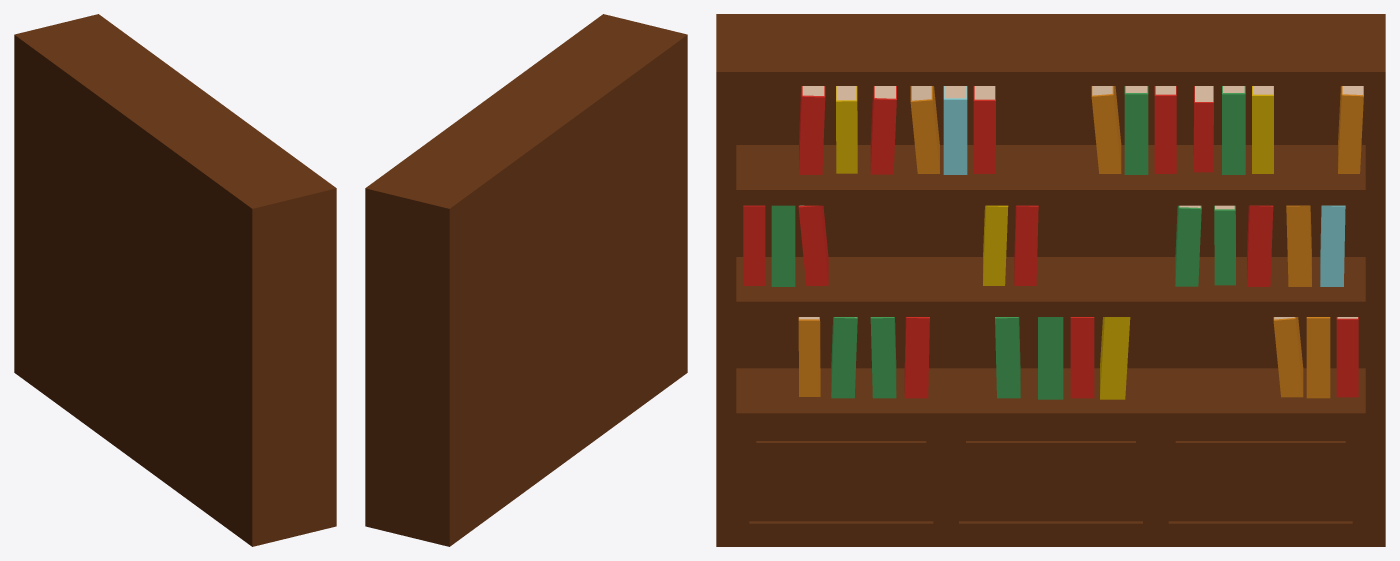
The model's file is BookshelfFull.fbx.
3 renders of one model, left to right at view 1: azimuth 30°, elevation 25°; view 2: azimuth 150°, elevation 25°; view 3: azimuth 270°, elevation 25°, orthographic. The views are drawn at different scales.
Parts seen in each view (by area): view 1: BookshelfFull.001; view 2: BookshelfFull.001; view 3: BookshelfFull.001.
Part boxes in pixels (bbox=[...]): BookshelfFull.001: bbox=[14, 14, 336, 546]; BookshelfFull.001: bbox=[365, 14, 687, 546]; BookshelfFull.001: bbox=[716, 14, 1385, 546].
Size of the model in its own units: 71.89 by 275 by 351.
